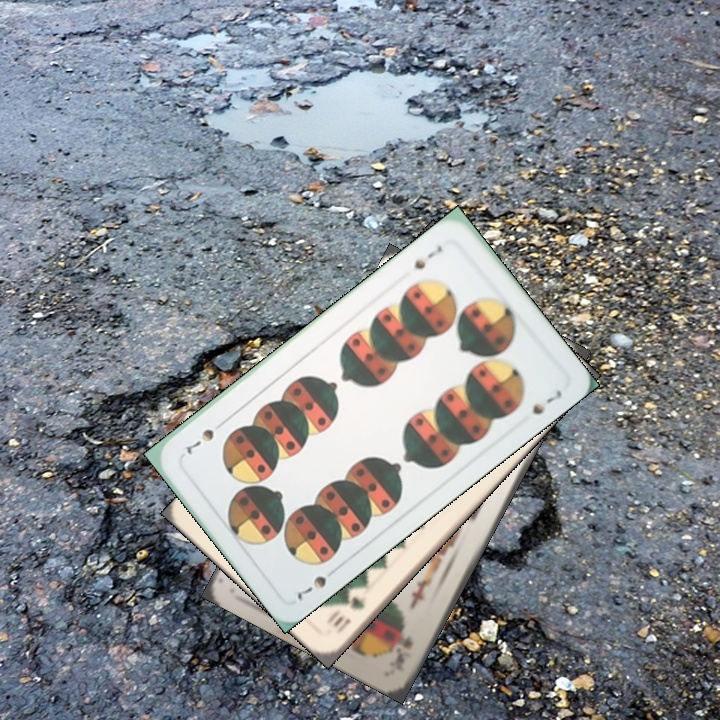G10: (328, 592, 369, 637)
S7: (293, 562, 341, 604), (410, 241, 445, 272)
SK: (394, 630, 416, 667)
